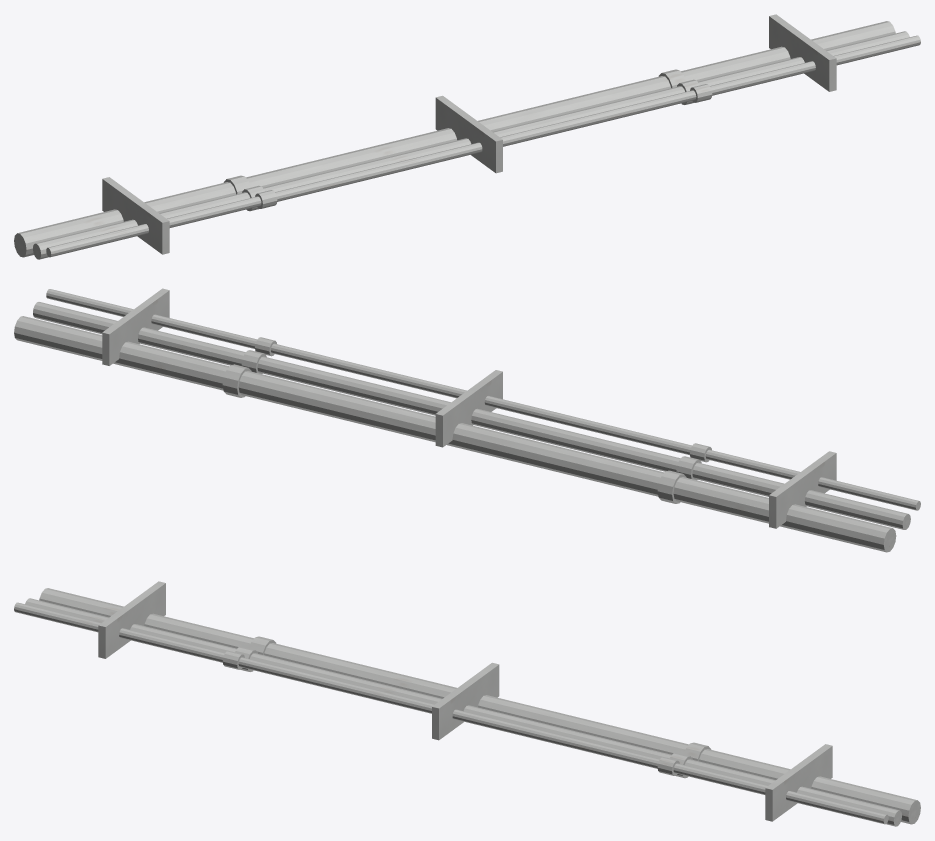
File: pipes.gltf
3 views of the same model, one above another, from view 1: azimuth 30°, elevation 25°; view 2: azimuth 150°, elevation 25°; view 3: azimuth 330°, elevation 25° (orthographic).
Visible parts, largest first — view 1: jx_pipes; view 2: jx_pipes; view 3: jx_pipes.
Part boxes in pixels (<box>): jx_pipes: <box>14,14,920,259</box>; jx_pipes: <box>14,288,920,552</box>; jx_pipes: <box>14,581,920,826</box>.
Bounding box in the file's own units: 6 × 0.298 × 0.72.
1 material, 1 textured.
